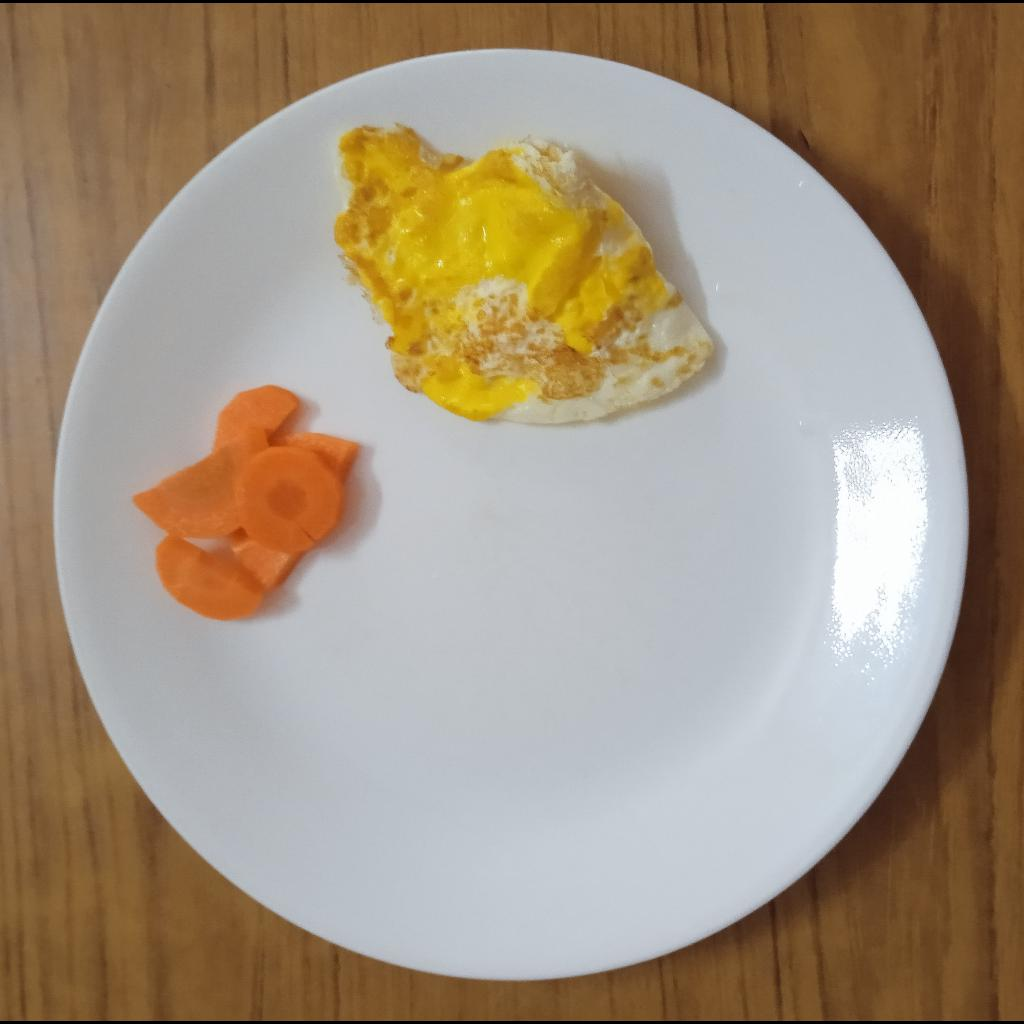carrot: (130, 380, 360, 620)
egg-poached: (329, 115, 718, 423)
